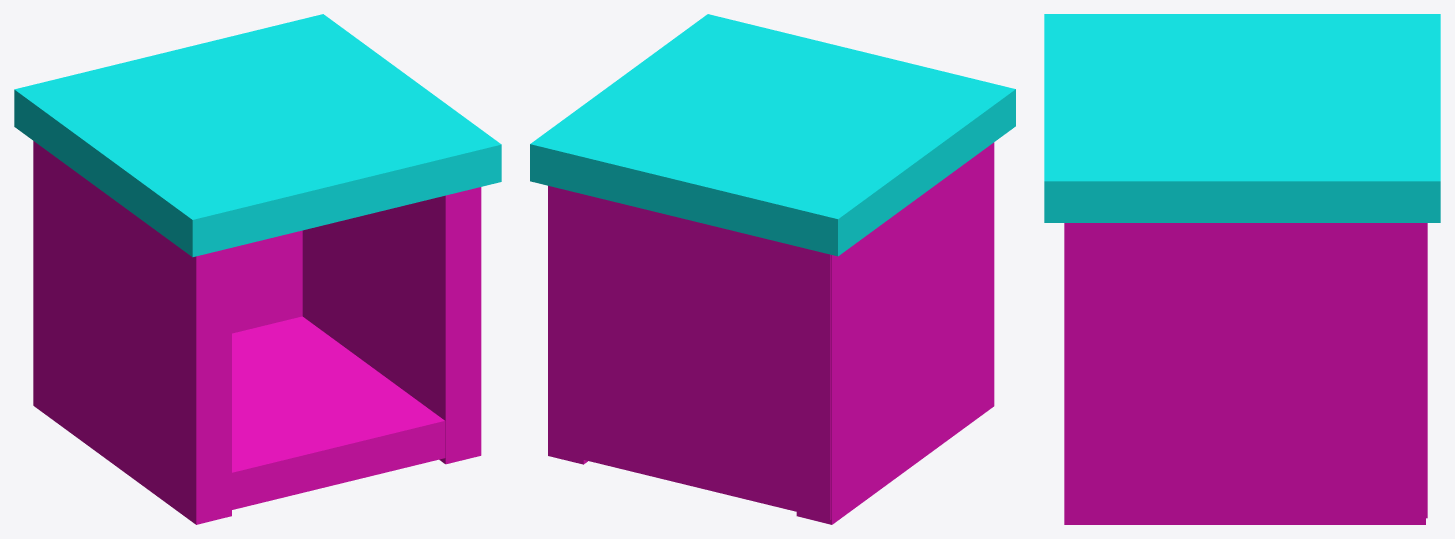
The model's file is Small_Drawer_1.gltf.
3 views of the same model, side by side, from view 1: azimuth 30°, elevation 25°; view 2: azimuth 150°, elevation 25°; view 3: azimuth 270°, elevation 25° (orthographic). The views are drawn at different scales.
Visible parts, largest first — view 1: Small_Drawer_1; view 2: Small_Drawer_1; view 3: Small_Drawer_1.
Part boxes in pixels (x1,y1,x2,y2): Small_Drawer_1: (14,14,501,524); Small_Drawer_1: (530,14,1015,524); Small_Drawer_1: (1044,14,1440,524).
Bounding box in the file's own units: 9.02 × 8.78 × 9.02.
